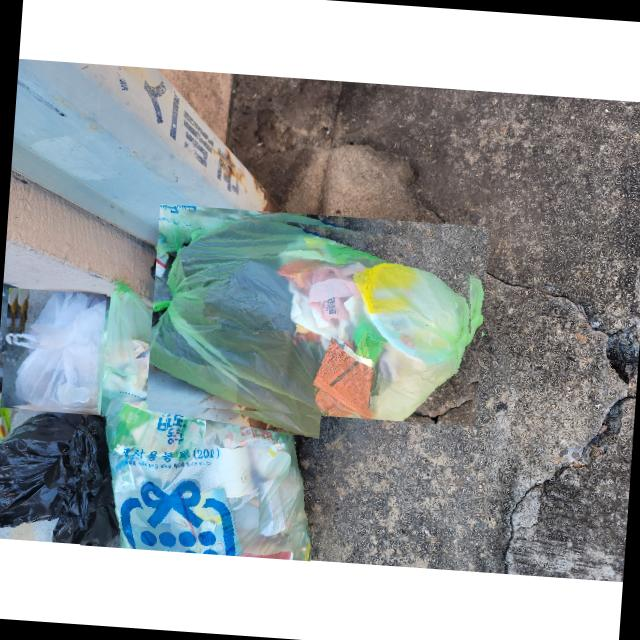general_trashbag: (148, 217, 473, 421), (93, 284, 310, 561)
other_trashbag: (0, 411, 117, 545), (9, 290, 105, 409)
